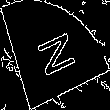N_W: (30, 26, 80, 84)
